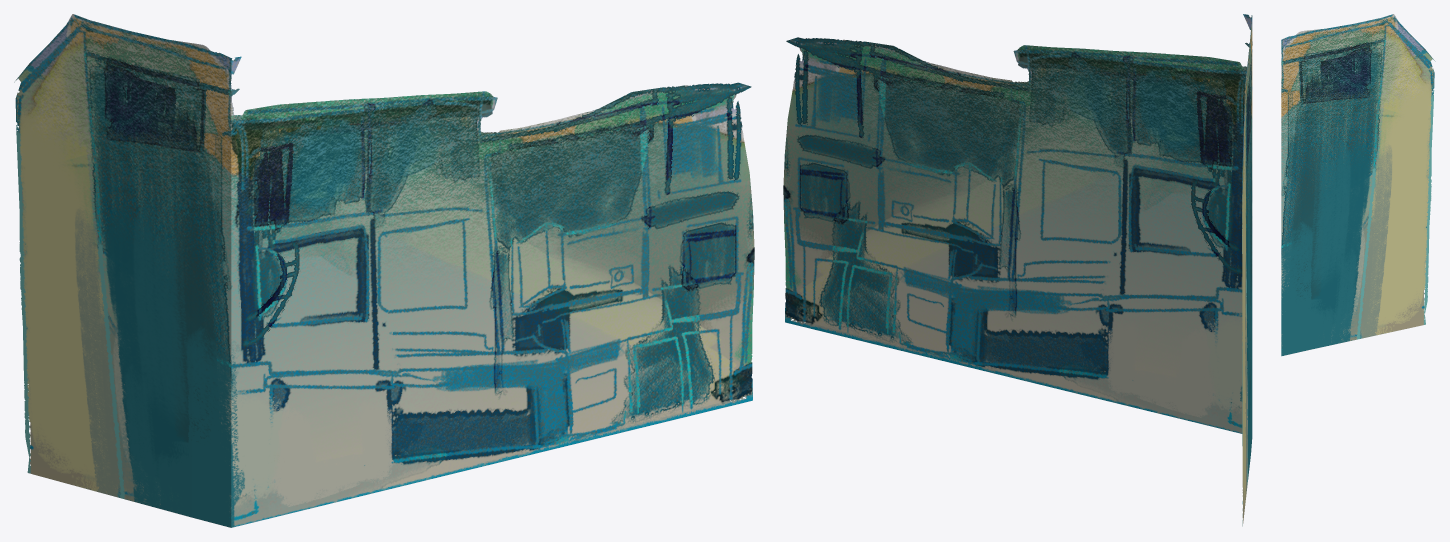
The model's file is house_4.fbx.
3 renders of one model, left to right at view 1: azimuth 30°, elevation 25°; view 2: azimuth 150°, elevation 25°; view 3: azimuth 270°, elevation 25°, orthographic. The views are drawn at different scales.
Parts seen in each view (by area): view 1: mask14; view 2: mask14; view 3: mask14.
Part boxes in pixels (x1=…): mask14: x1=14, y1=14, x2=754, y2=527; mask14: x1=783, y1=14, x2=1252, y2=526; mask14: x1=1281, y1=14, x2=1435, y2=356.
Bounding box in the file's own units: 7.57 × 5.5 × 2.39.
1 material, 1 textured.
